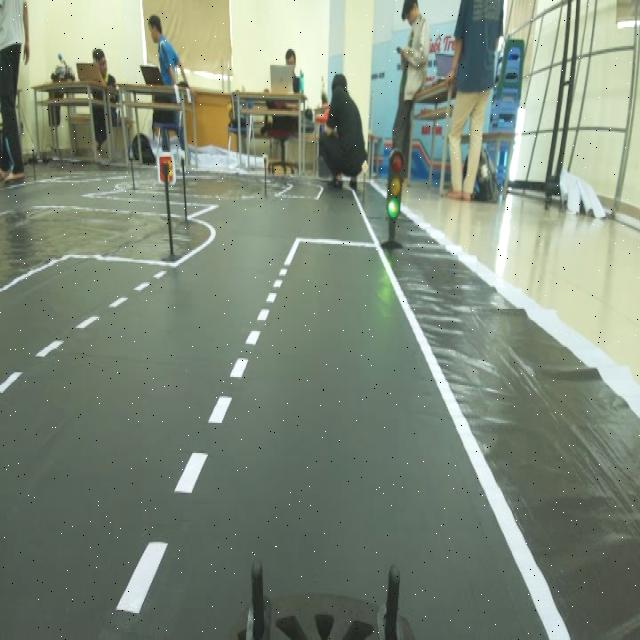trafficlight: (375, 149, 410, 253)
